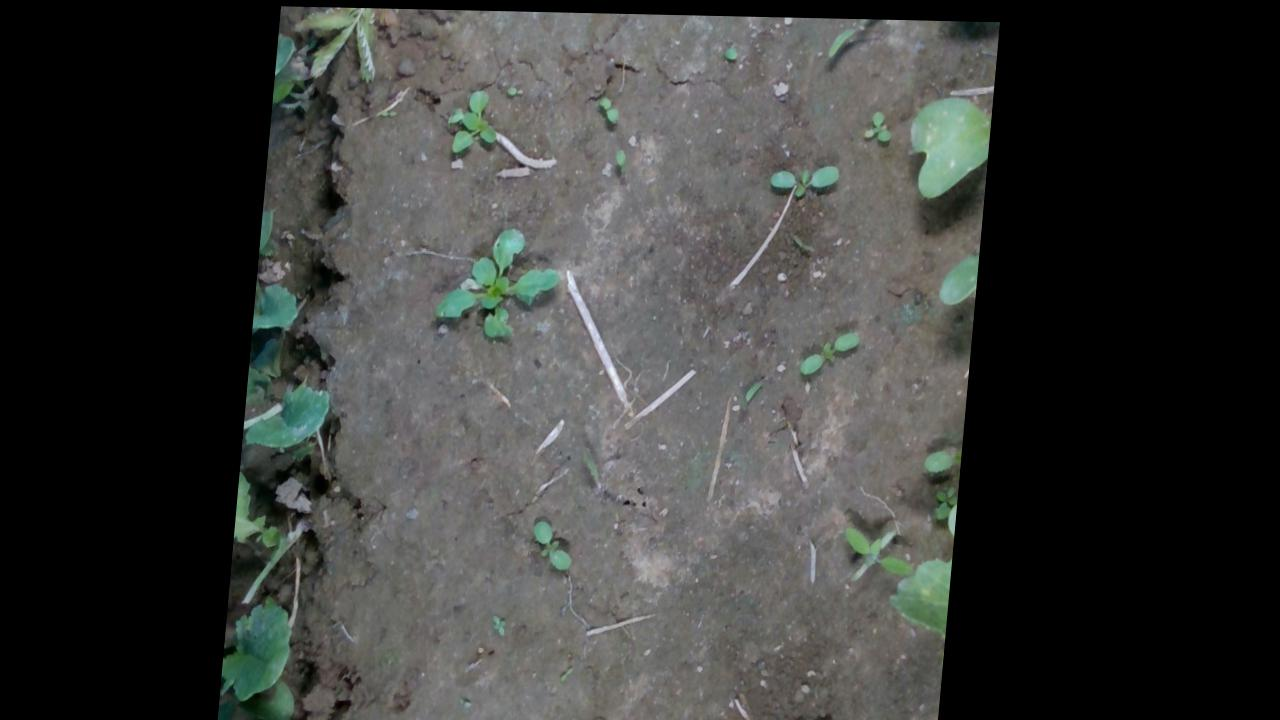weed: (851, 519, 929, 572), (827, 14, 892, 58), (772, 157, 845, 195), (806, 325, 866, 371), (540, 515, 587, 568), (862, 103, 899, 140), (598, 91, 624, 120), (501, 610, 522, 633), (570, 661, 587, 679), (794, 715, 850, 719)
